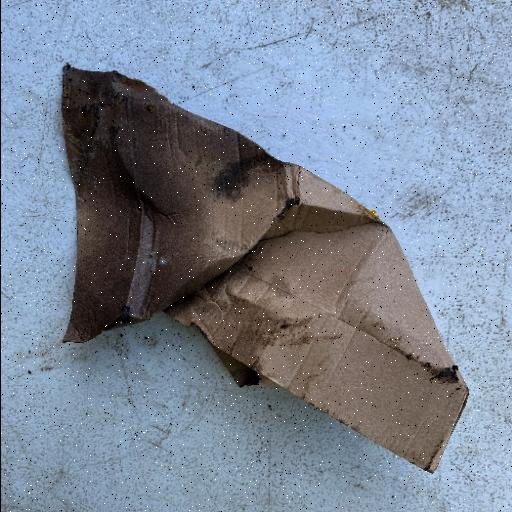Cardboard: (59, 62, 471, 474), (59, 61, 287, 345)
